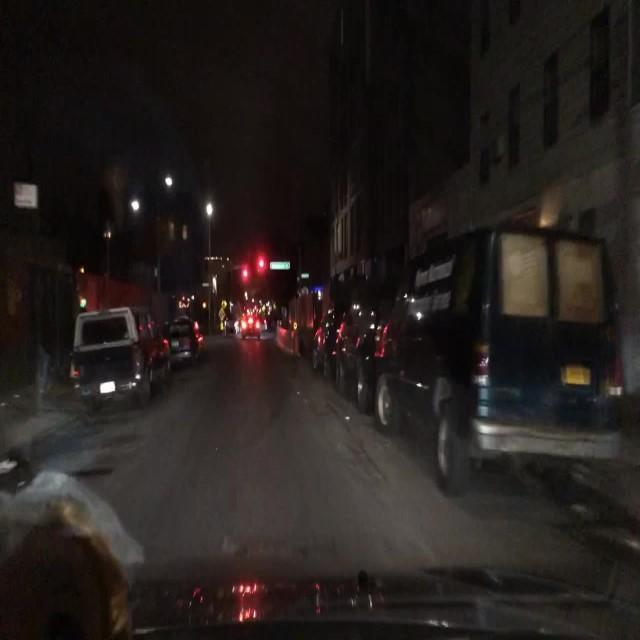normal: (255, 265, 640, 519), (69, 306, 175, 411), (165, 319, 208, 367)
